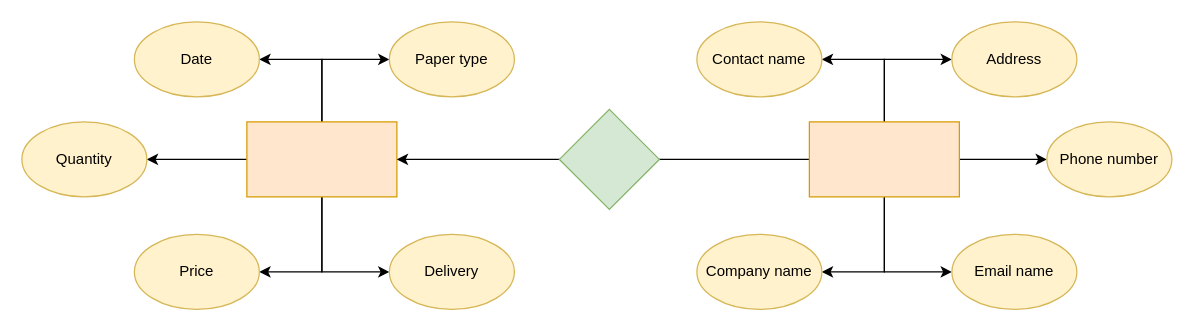
Some shapes in this 1194 by 331 pixel diagram are drawn without their labels. Each missing label, with the centre of its shape:
"Cient" belongs at point (883, 159).
"has" belongs at point (608, 158).
"Orders" belongs at point (321, 159).
